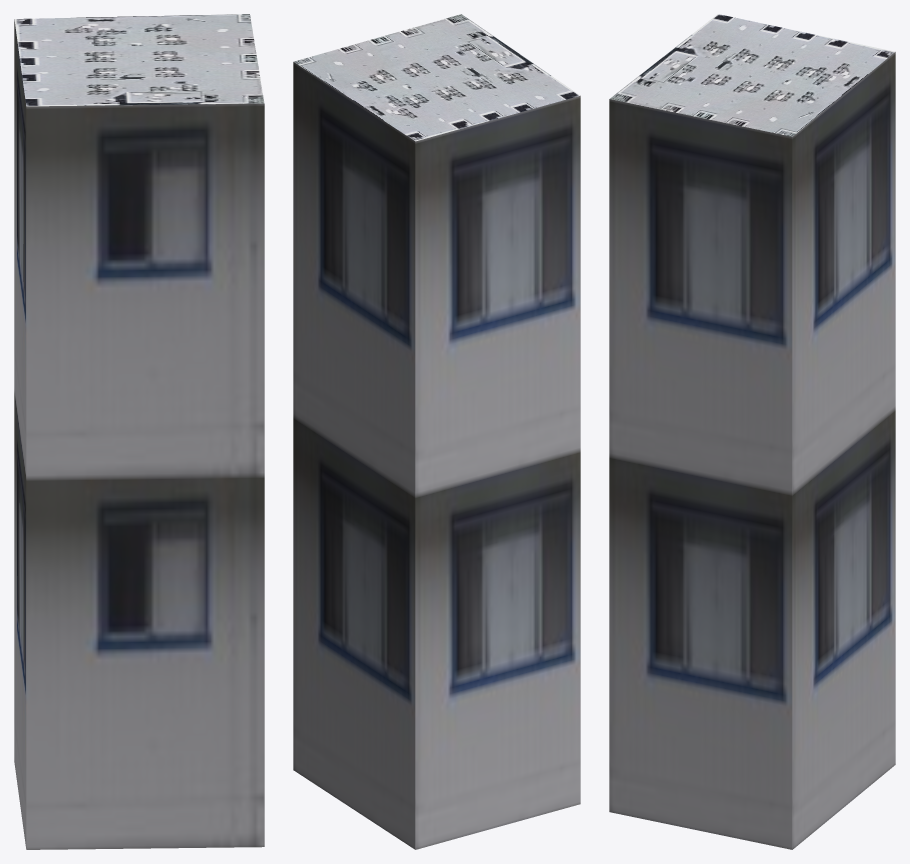
Rendered from ResTex__2379.fbx.
The picture shows the model from 3 angles, left to right: view 1: azimuth 30°, elevation 25°; view 2: azimuth 150°, elevation 25°; view 3: azimuth 270°, elevation 25°; orthographic projection. The views are drawn at different scales.
Visible parts, largest first — view 1: CityEngineMaterial_9_m, CityEngineMaterial_8_m; view 2: CityEngineMaterial_9_m, CityEngineMaterial_8_m; view 3: CityEngineMaterial_9_m, CityEngineMaterial_8_m.
Part boxes in pixels (x1,y1,x2,y2): CityEngineMaterial_9_m: (14, 19, 264, 849); CityEngineMaterial_8_m: (14, 14, 264, 106); CityEngineMaterial_9_m: (293, 62, 580, 849); CityEngineMaterial_8_m: (294, 14, 579, 141); CityEngineMaterial_9_m: (609, 52, 895, 849); CityEngineMaterial_8_m: (610, 14, 894, 136).
Bounding box in the file's own units: 2.22 × 6 × 2.18.
2 materials, 2 textured.
